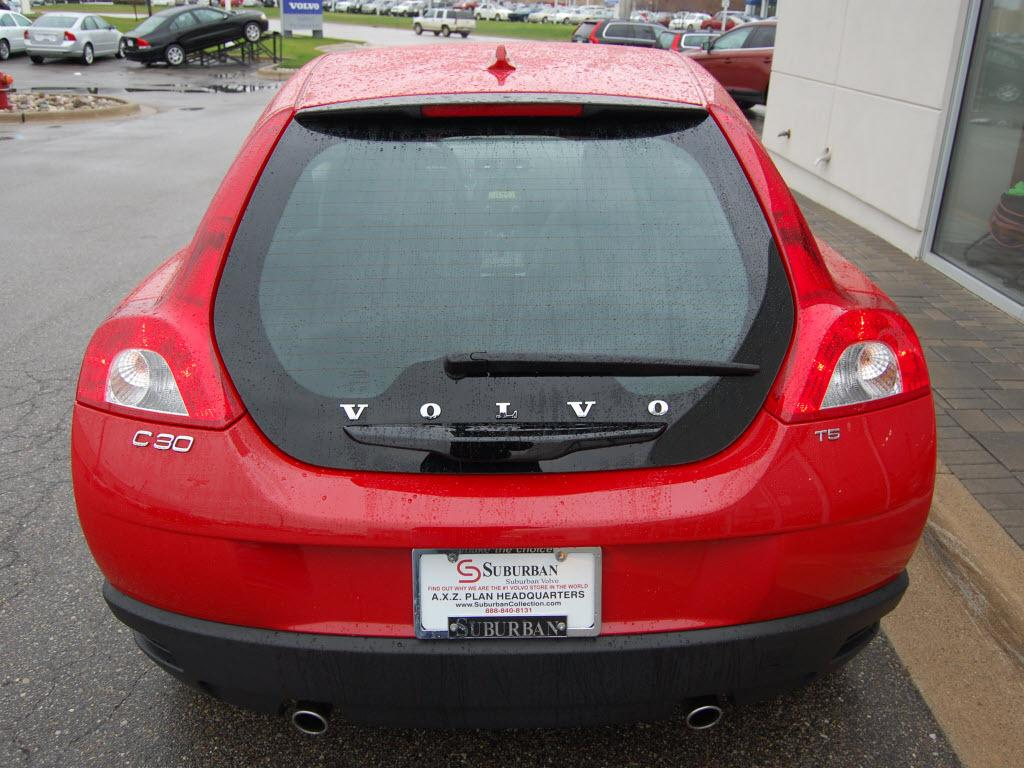Hatchback: (69, 39, 938, 735)
